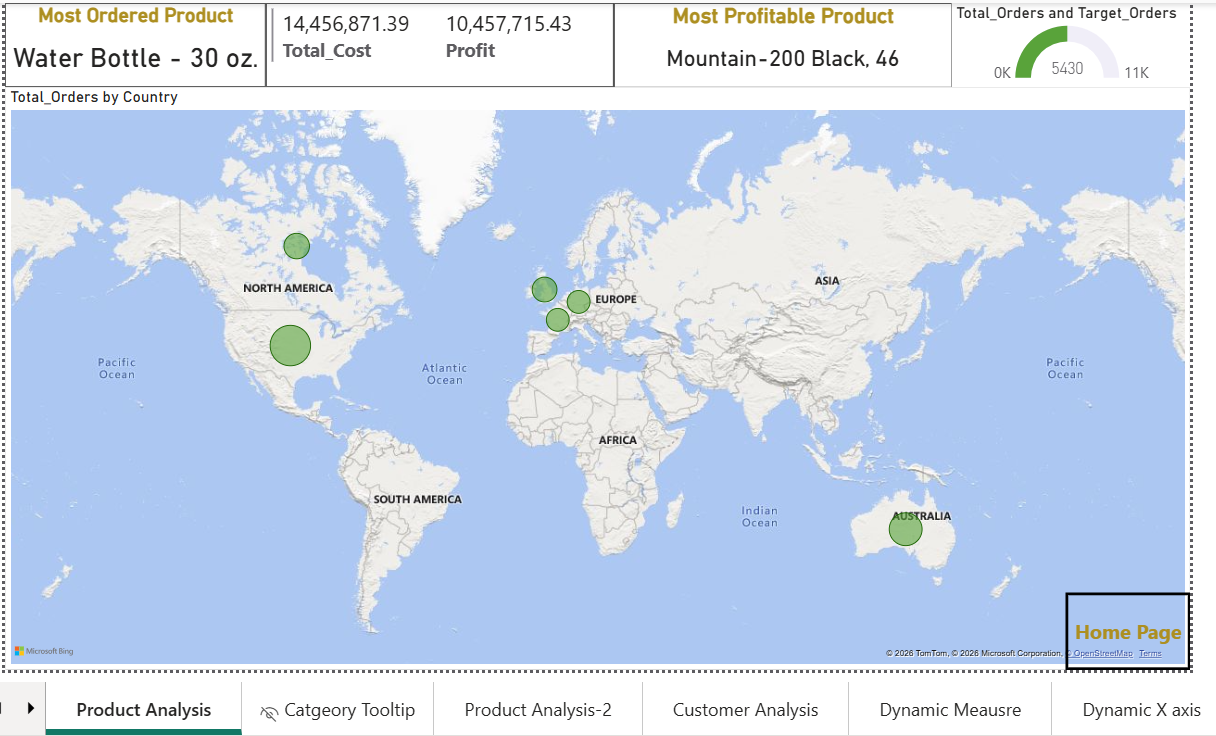

This screenshot's page, from the dashboard's own definition file:
{"tool":"powerbi","page":{"name":"Product Analysis","canvas":[1280,720],"ordinal":4},"visuals":[{"type":"card","title":"Most Ordered Product","fields":{"Values":["Min(Products.ProductName)"]},"box":[0,0,281.3,90.5],"z":0},{"type":"multiRowCard","fields":{"Values":["Sales.Total_Cost","Sales.Profit"]},"box":[281.3,0,376.6,90.5],"z":1000},{"type":"card","title":"Most Profitable Product","fields":{"Values":["Min(Products.ProductName)"]},"box":[657.9,0,364.6,91.1],"z":2000},{"type":"map","fields":{"Category":["Territories.Country"],"Size":["Sales.Total_Orders"]},"box":[0,90.5,1280.3,629.8],"z":3000},{"type":"gauge","fields":{"Y":["Sales.Total_Orders"],"TargetValue":["Sales.Target_Orders"]},"box":[1022.3,0,258,90.5],"z":4000},{"type":"actionButton","box":[1145,636.2,135,83.8],"z":5000}]}

Visuals, with their boxes on the page's 1280x720 design canvas (x1, y1, x2, y2). These are canvas units, not pixel positions in the 1216x736 screenshot, which may show the page scaled, cropped or inside an application window:
"Most Ordered Product" card: x1=0, y1=0, x2=281, y2=90
multiRowCard - Sales.Total_Cost x Sales.Profit: x1=281, y1=0, x2=658, y2=90
"Most Profitable Product" card: x1=658, y1=0, x2=1022, y2=91
map - Territories.Country x Sales.Total_Orders: x1=0, y1=90, x2=1280, y2=720
gauge - Sales.Total_Orders x Sales.Target_Orders: x1=1022, y1=0, x2=1280, y2=90
actionButton: x1=1145, y1=636, x2=1280, y2=720
